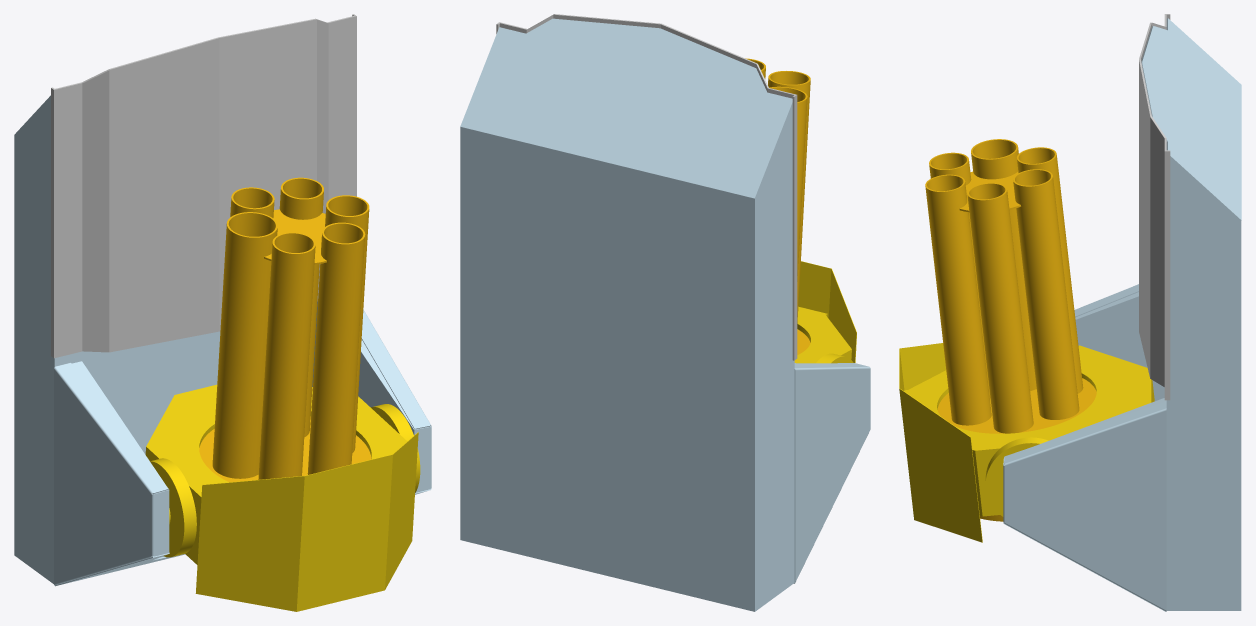
Rendered from javelin_low_v2.gltf.
The picture shows the model from 3 angles, left to right: view 1: azimuth 30°, elevation 25°; view 2: azimuth 150°, elevation 25°; view 3: azimuth 270°, elevation 25°; orthographic projection. The views are drawn at different scales.
Visible parts, largest first — view 1: mesh170_meshnode_170, mesh94_meshnode_94, mesh174_meshnode_174, mesh97_meshnode_97, mesh152_meshnode_152, mesh158_meshnode_158, mesh215_meshnode_215, mesh220_meshnode_220, mesh209_meshnode_209, mesh10_meshnode_10, mesh167_meshnode_167, mesh168_meshnode_168 (+24 smaller); view 2: mesh89_meshnode_89, mesh105_meshnode_105, mesh94_meshnode_94, mesh97_meshnode_97, mesh143_meshnode_143, mesh148_meshnode_148, mesh149_meshnode_149, mesh165_meshnode_165, mesh215_meshnode_215, mesh209_meshnode_209, mesh164_meshnode_164; view 3: mesh91_meshnode_91, mesh22_meshnode_22, mesh105_meshnode_105, mesh229_meshnode_229, mesh230_meshnode_230, mesh220_meshnode_220, mesh157_meshnode_157, mesh143_meshnode_143, mesh176_meshnode_176, mesh66_meshnode_66, mesh174_meshnode_174, mesh215_meshnode_215 (+16 smaller).
Part boxes in pixels (x1=…): mesh170_meshnode_170: x1=109, y1=38, x2=219, y2=352; mesh94_meshnode_94: x1=14, y1=95, x2=54, y2=583; mesh174_meshnode_174: x1=219, y1=19, x2=316, y2=331; mesh97_meshnode_97: x1=54, y1=369, x2=151, y2=583; mesh152_meshnode_152: x1=195, y1=476, x2=304, y2=611; mesh158_meshnode_158: x1=296, y1=454, x2=392, y2=611; mesh215_meshnode_215: x1=212, y1=224, x2=277, y2=478; mesh220_meshnode_220: x1=307, y1=233, x2=365, y2=474; mesh209_meshnode_209: x1=258, y1=243, x2=315, y2=479; mesh10_meshnode_10: x1=82, y1=331, x2=220, y2=454; mesh167_meshnode_167: x1=54, y1=83, x2=82, y2=358; mesh168_meshnode_168: x1=82, y1=71, x2=109, y2=352; mesh89_meshnode_89: x1=460, y1=127, x2=754, y2=611; mesh105_meshnode_105: x1=460, y1=18, x2=792, y2=198; mesh94_meshnode_94: x1=755, y1=102, x2=794, y2=611; mesh97_meshnode_97: x1=795, y1=369, x2=870, y2=581; mesh143_meshnode_143: x1=794, y1=306, x2=851, y2=363; mesh148_meshnode_148: x1=798, y1=261, x2=831, y2=318; mesh149_meshnode_149: x1=828, y1=269, x2=856, y2=362; mesh165_meshnode_165: x1=794, y1=95, x2=797, y2=360; mesh215_meshnode_215: x1=797, y1=97, x2=807, y2=281; mesh209_meshnode_209: x1=768, y1=78, x2=810, y2=323; mesh164_meshnode_164: x1=792, y1=96, x2=794, y2=360; mesh91_meshnode_91: x1=1166, y1=156, x2=1241, y2=610; mesh22_meshnode_22: x1=1005, y1=410, x2=1166, y2=610; mesh105_meshnode_105: x1=1142, y1=18, x2=1241, y2=219; mesh229_meshnode_229: x1=967, y1=190, x2=1033, y2=433; mesh230_meshnode_230: x1=1013, y1=177, x2=1079, y2=419; mesh220_meshnode_220: x1=925, y1=182, x2=991, y2=425; mesh157_meshnode_157: x1=899, y1=389, x2=982, y2=542; mesh143_meshnode_143: x1=904, y1=345, x2=1151, y2=450; mesh176_meshnode_176: x1=1150, y1=117, x2=1164, y2=386; mesh66_meshnode_66: x1=1075, y1=296, x2=1164, y2=401; mesh174_meshnode_174: x1=1139, y1=60, x2=1150, y2=378; mesh215_meshnode_215: x1=971, y1=147, x2=1036, y2=391.
Size of the model in its own units: 0.5651 by 0.9323 by 0.5962.
